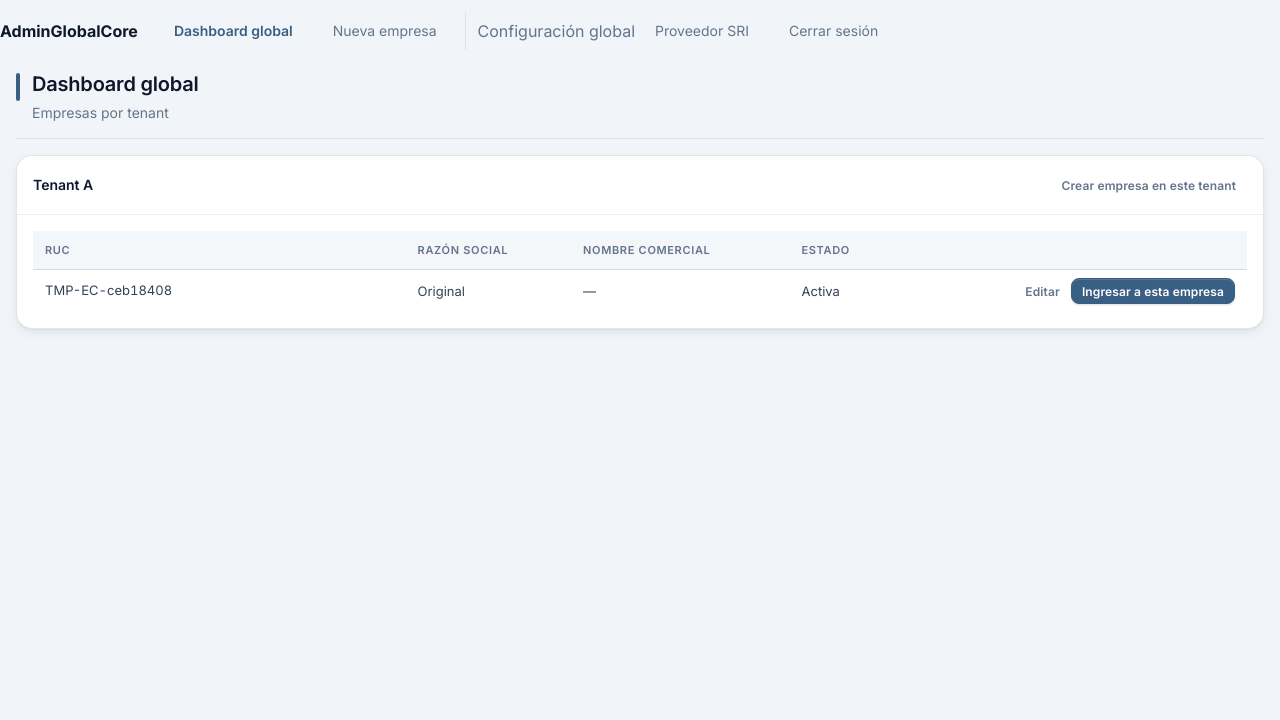
Test case: Editar empresa global › mantiene el formulario y los datos originales si backend rechaza
Click the button "Editar": click(1043, 291) [1014, 278, 1071, 304]
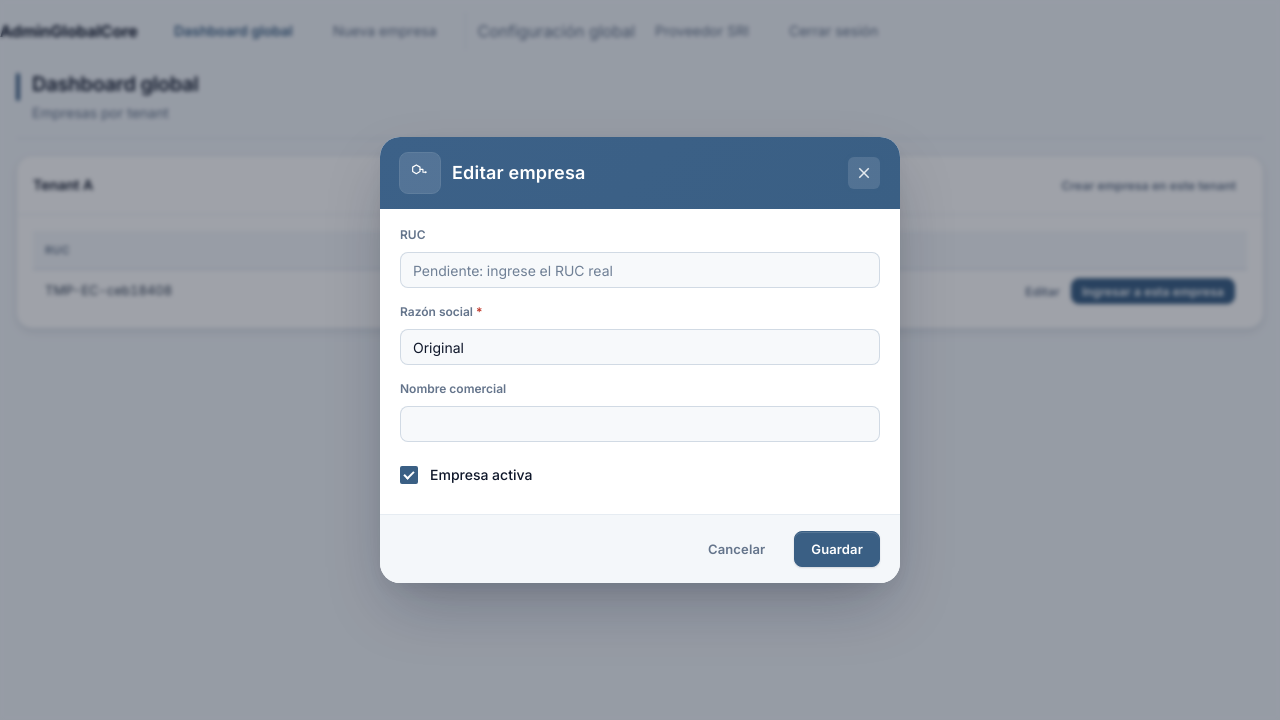
In the field labelled "RUC": (640, 270) [400, 252, 880, 288], type "1234567890123"
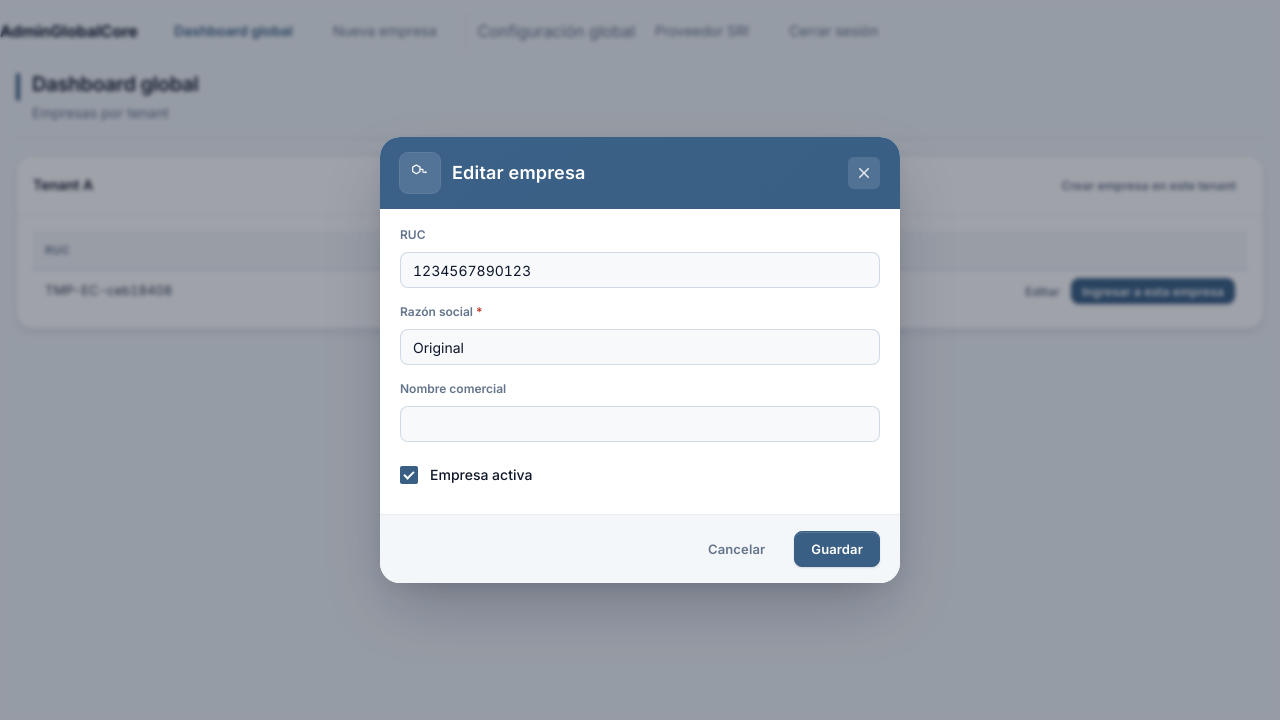
Click the button "Guardar": click(837, 549) [794, 531, 880, 567]
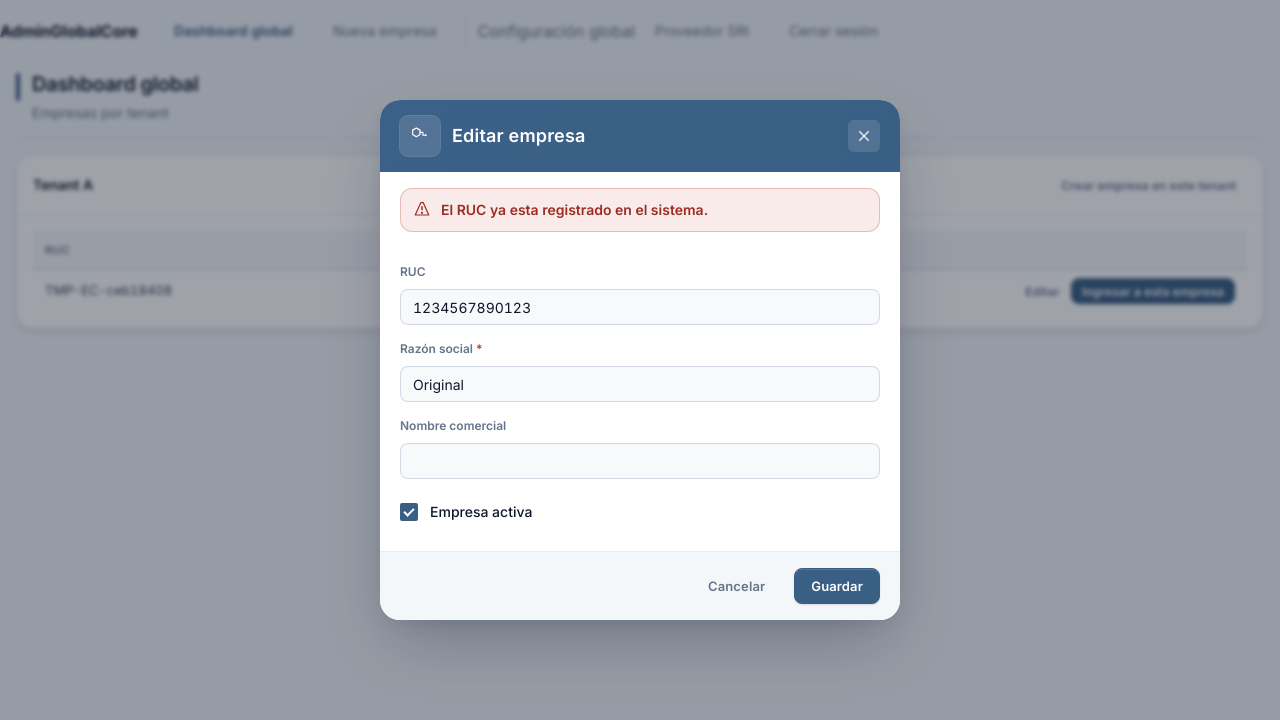
Check: the text "RUC Pendiente" is shown, box [172, 278, 279, 304]
Check: the dialog is shown
Check: the text "El RUC ya esta registrado en el sistema." is shown, box [441, 199, 708, 221]
